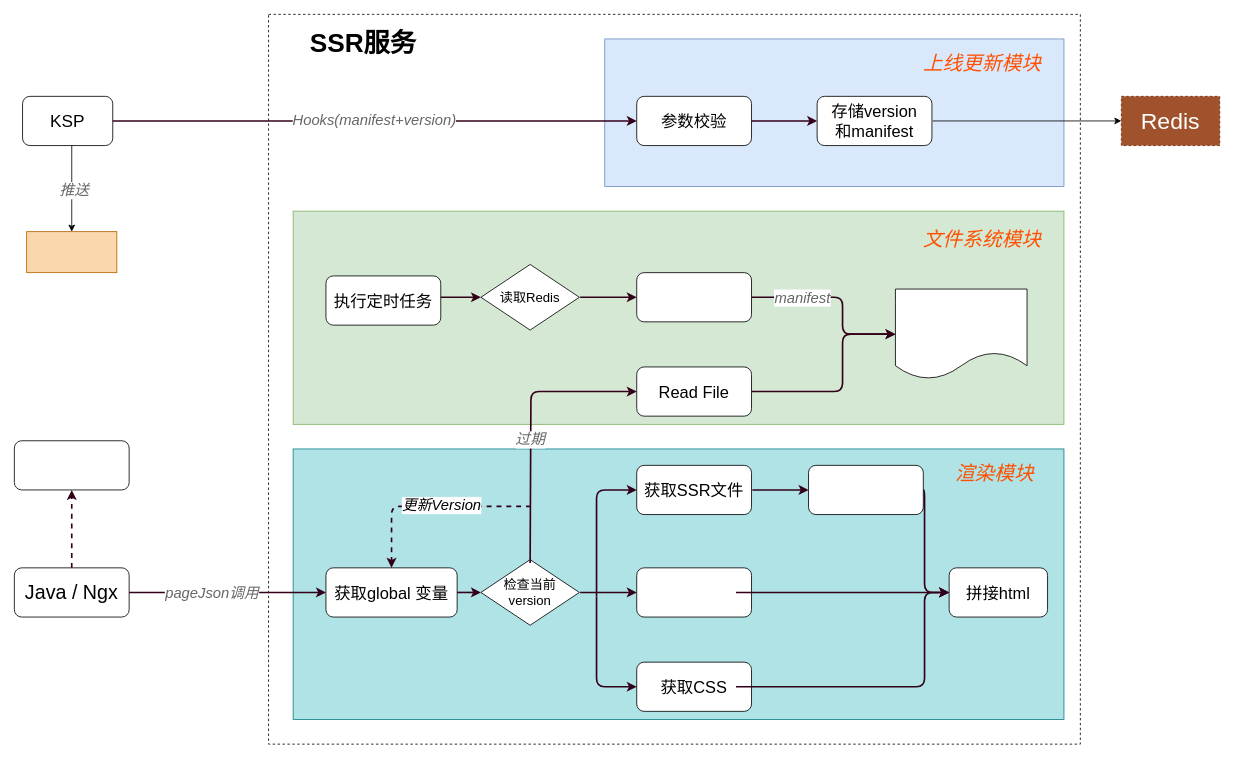
Some shapes in this 1234 by 759 pixel diagram are drawn without their labels. The centre of each missing label's shape, as x and y in pixels:
"CDN" goes at point 71,252.
"Csr-Node" goes at point 71,465.
"render" goes at point 865,490.
"Write File" goes at point 694,297.
"本地磁盘 (静态资源)" goes at point 961,333.
"获取HTML" goes at point 694,592.
